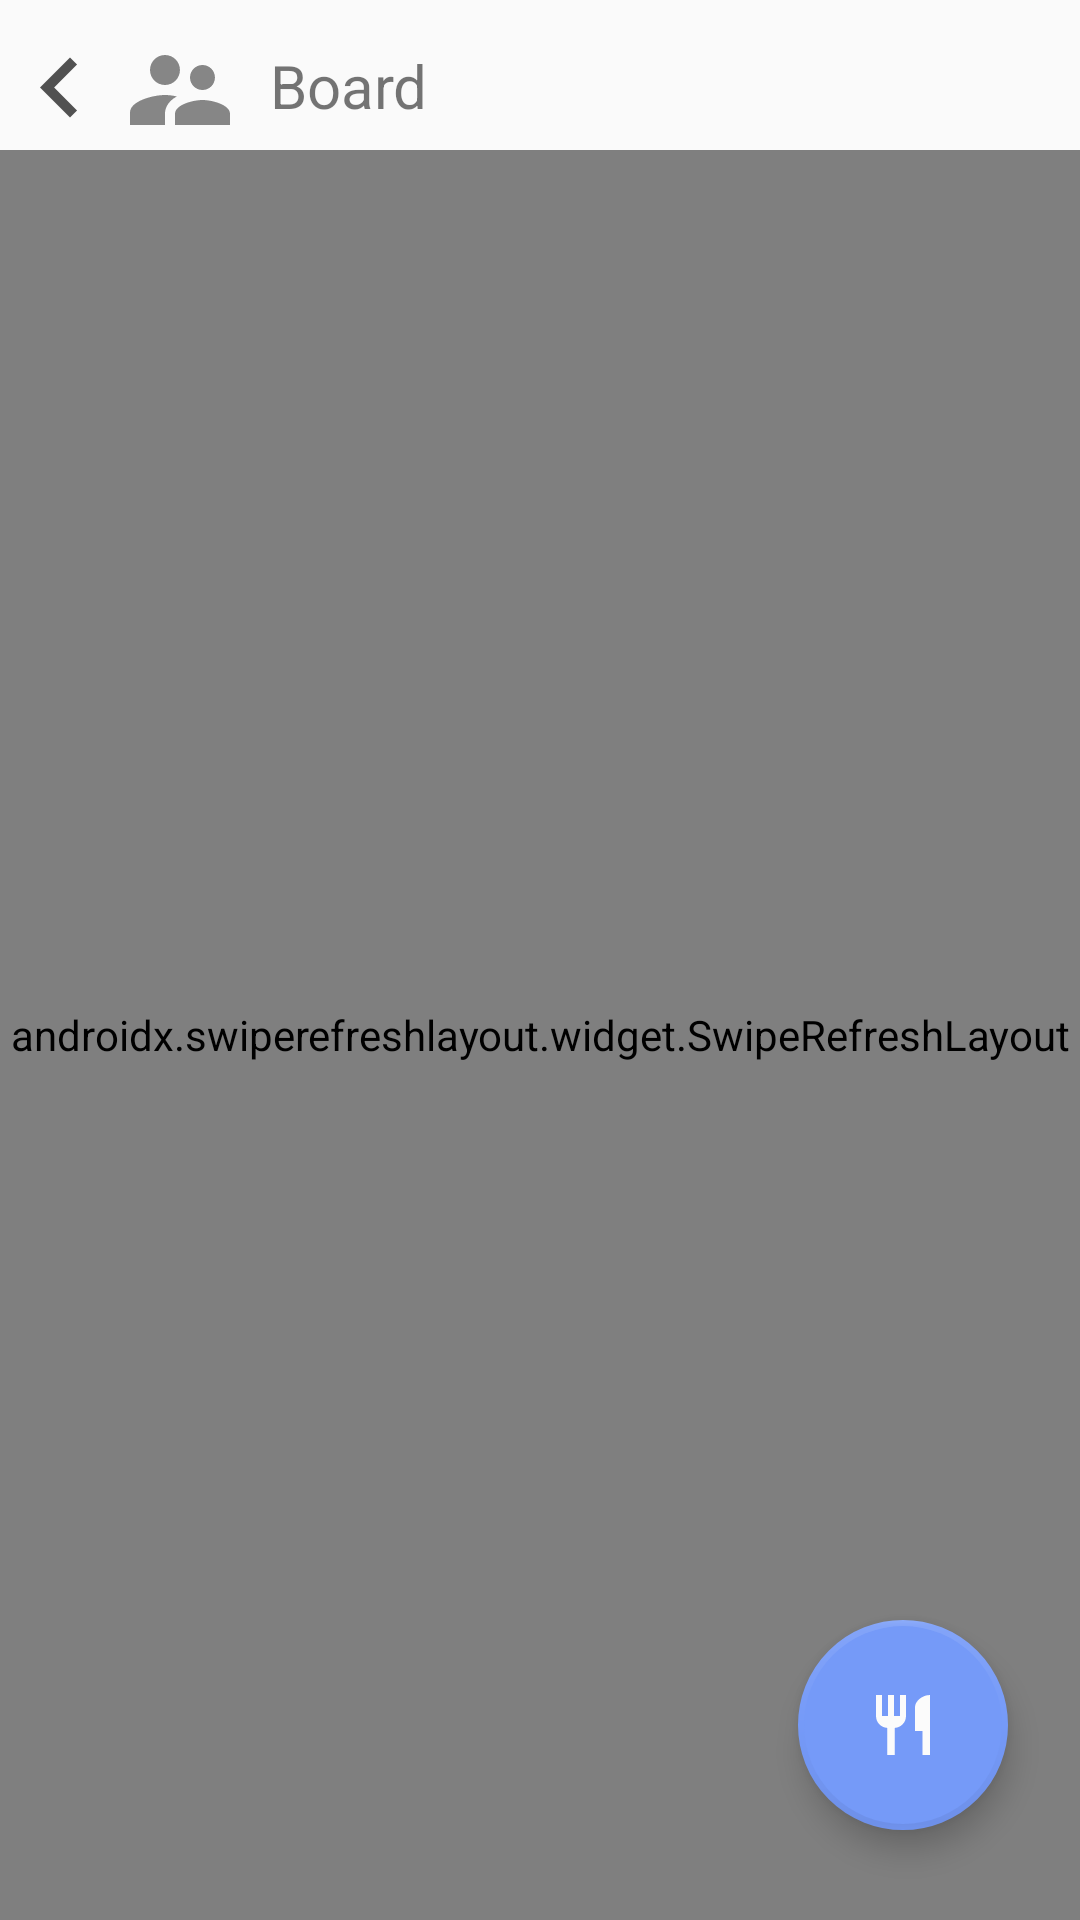

Named icons in this screenshot (1080x1920) and their bounding boxes, [x1,y1,x2,y2]:
back: [40,58,77,117]
restaurant: [798,1620,1008,1830]
supervisor account: [130,55,230,125]
